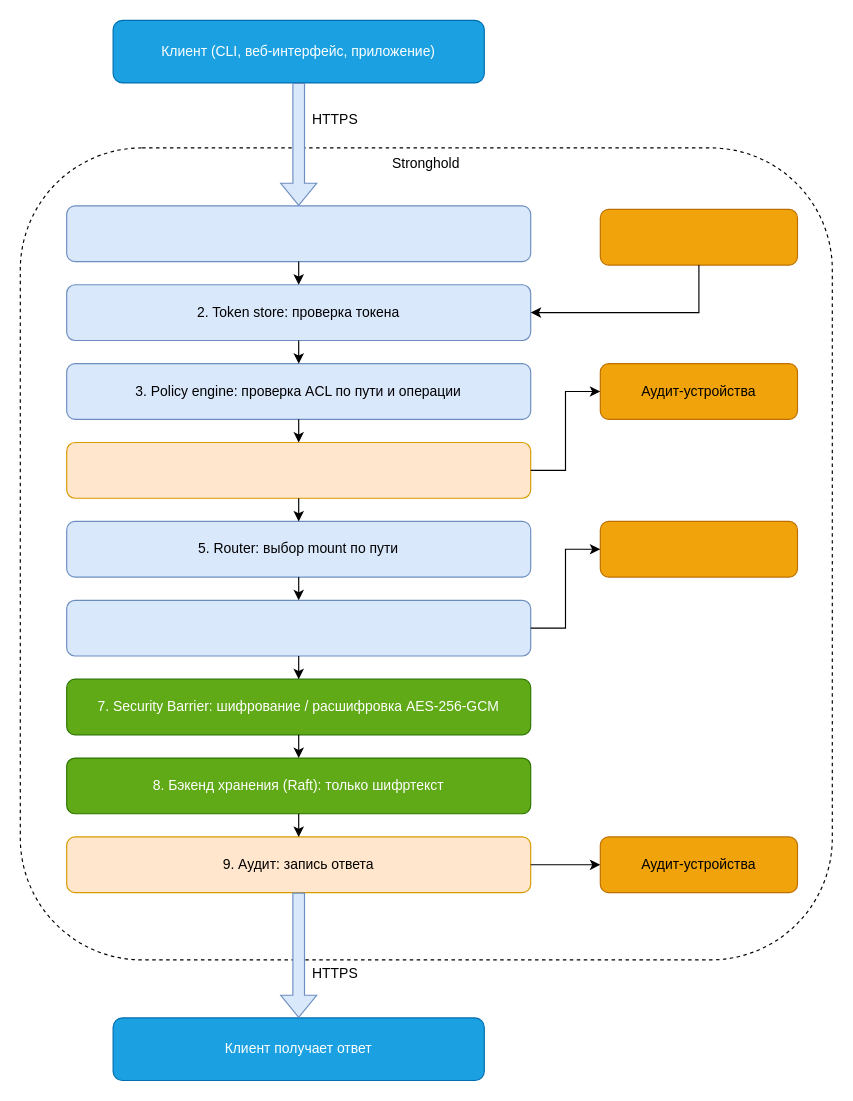
Some shapes in this 853 by 1101 pixel diagram are drawn without their labels. The centre of each missing label's shape, as x and y in pixels:
1. HTTP API / TLS listener: (x=298, y=233)
4. Аудит: запись запроса: (x=298, y=469)
6. Механизм секретов: (x=298, y=627)
Expiration manager (lease): (x=698, y=548)
Методы аутентификации: (x=698, y=236)
